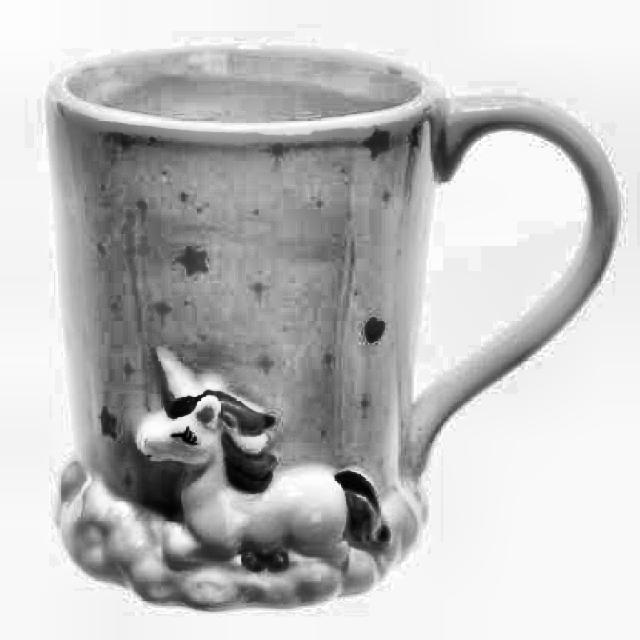Mug: (40, 38, 618, 614)
